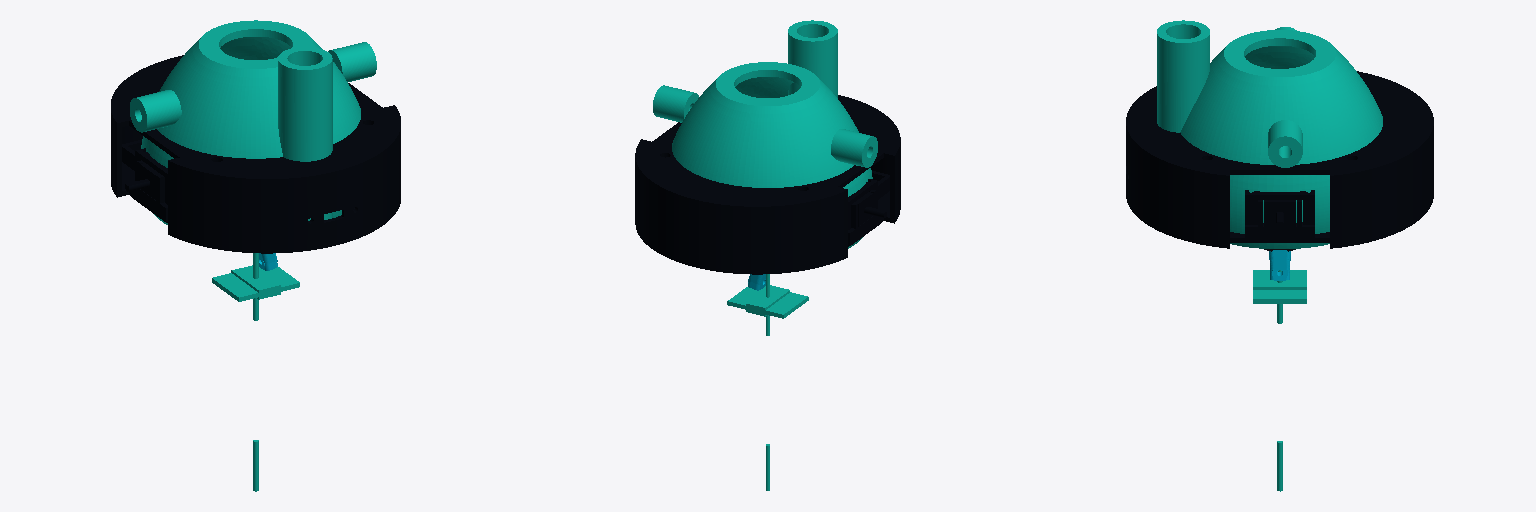
The robot description file, URDF, robot "desk_pet":
<?xml version="1.0" encoding="utf-8"?>
<robot name="desk_pet">
  <material name="dark_chassis">
    <color rgba="0.043 0.059 0.090 1.0"/>
  </material>
  <material name="cyan_accent">
    <color rgba="0.024 0.714 0.831 1.0"/>
  </material>
  <material name="teal_body">
    <color rgba="0.078 0.722 0.651 1.0"/>
  </material>
  <material name="yellow_amber">
    <color rgba="0.918 0.702 0.031 1.0"/>
  </material>
  <material name="tire_rubber">
    <color rgba="0.10 0.10 0.12 1.0"/>
  </material>
  <material name="eye_glow">
    <color rgba="0.05 0.95 0.95 1.0"/>
  </material>

  <link name="base_link">
    <inertial>
      <origin xyz="0.000000 -0.000021 0.010275" rpy="0 0 0"/>
      <mass value="0.3761"/>
      <inertia ixx="1.56699473e-04" ixy="0.00000000e+00" ixz="0.00000000e+00"
               iyy="1.56699473e-04" iyz="0.00000000e+00"
               izz="1.56699473e-04"/>
    </inertial>
    <visual>
      <origin xyz="0 0 0" rpy="0 0 0"/>
      <geometry>
        <mesh filename="../stl/base_link.stl"/>
      </geometry>
      <material name="dark_chassis"/>
    </visual>
    <collision>
      <origin xyz="0 0 0" rpy="0 0 0"/>
      <geometry>
        <mesh filename="../stl/base_link.stl"/>
      </geometry>
    </collision>
  </link>

  <link name="left_wheel_link">
    <inertial>
      <origin xyz="-0.000000 -0.000000 0.000001" rpy="0 0 0"/>
      <mass value="0.0194"/>
      <inertia ixx="8.09189821e-06" ixy="0.00000000e+00" ixz="0.00000000e+00"
               iyy="8.09189821e-06" iyz="0.00000000e+00"
               izz="8.09189821e-06"/>
    </inertial>
    <visual>
      <origin xyz="0 0 0" rpy="0 0 0"/>
      <geometry>
        <mesh filename="../stl/left_wheel.stl"/>
      </geometry>
      <material name="tire_rubber"/>
    </visual>
    <collision>
      <origin xyz="0 0 0" rpy="0 0 0"/>
      <geometry>
        <mesh filename="../stl/left_wheel.stl"/>
      </geometry>
    </collision>
  </link>

  <joint name="left_wheel_joint" type="continuous">
    <parent link="base_link"/>
    <child link="left_wheel_link"/>
    <origin xyz="-0.049 0.0 0.017" rpy="0 0 0"/>
    <axis xyz="-1 0 0"/>
    <limit effort="1.2" velocity="25.0"/>
    <dynamics damping="0.001" friction="0.01"/>
  </joint>

  <link name="right_wheel_link">
    <inertial>
      <origin xyz="-0.000000 -0.000000 0.000001" rpy="0 0 0"/>
      <mass value="0.0194"/>
      <inertia ixx="8.09189821e-06" ixy="0.00000000e+00" ixz="0.00000000e+00"
               iyy="8.09189821e-06" iyz="0.00000000e+00"
               izz="8.09189821e-06"/>
    </inertial>
    <visual>
      <origin xyz="0 0 0" rpy="0 0 0"/>
      <geometry>
        <mesh filename="../stl/right_wheel.stl"/>
      </geometry>
      <material name="tire_rubber"/>
    </visual>
    <collision>
      <origin xyz="0 0 0" rpy="0 0 0"/>
      <geometry>
        <mesh filename="../stl/right_wheel.stl"/>
      </geometry>
    </collision>
  </link>

  <joint name="right_wheel_joint" type="continuous">
    <parent link="base_link"/>
    <child link="right_wheel_link"/>
    <origin xyz="0.049 0.0 0.017" rpy="0 0 0"/>
    <axis xyz="1 0 0"/>
    <limit effort="1.2" velocity="25.0"/>
    <dynamics damping="0.001" friction="0.01"/>
  </joint>

  <link name="torso_link">
    <inertial>
      <origin xyz="-0.000002 -0.003657 0.057928" rpy="0 0 0"/>
      <mass value="0.1409"/>
      <inertia ixx="1.58807322e-04" ixy="-2.78418515e-09" ixz="-8.69789555e-09"
               iyy="1.48522318e-04" iyz="1.13168473e-05"
               izz="1.61379411e-04"/>
    </inertial>
    <visual>
      <origin xyz="0 0 0" rpy="0 0 0"/>
      <geometry>
        <mesh filename="../stl/torso_shell.stl"/>
      </geometry>
      <material name="teal_body"/>
    </visual>
    <collision>
      <origin xyz="0 0 0" rpy="0 0 0"/>
      <geometry>
        <mesh filename="../stl/torso_shell.stl"/>
      </geometry>
    </collision>
  </link>

  <joint name="torso_flange_joint" type="fixed">
    <parent link="base_link"/>
    <child link="torso_link"/>
    <origin xyz="0 0 0.034" rpy="0 0 0"/>
  </joint>

  <link name="left_arm_link">
    <inertial>
      <origin xyz="-0.000000 -0.000000 -0.012585" rpy="0 0 0"/>
      <mass value="0.0152"/>
      <inertia ixx="1.39604522e-06" ixy="-1.14007910e-12" ixz="-1.18367851e-12"
               iyy="1.36485755e-06" iyz="-7.37521152e-13"
               izz="1.47666901e-07"/>
    </inertial>
    <visual>
      <origin xyz="0 0 0" rpy="0 0 0"/>
      <geometry>
        <mesh filename="../stl/left_arm.stl"/>
      </geometry>
      <material name="cyan_accent"/>
    </visual>
    <collision>
      <origin xyz="0 0 0" rpy="0 0 0"/>
      <geometry>
        <mesh filename="../stl/left_arm.stl"/>
      </geometry>
    </collision>
  </link>

  <joint name="left_shoulder_joint" type="revolute">
    <parent link="torso_link"/>
    <child link="left_arm_link"/>
    <origin xyz="-0.0485 0.002 0.044" rpy="0 0.1745 0"/>
    <axis xyz="1 0 0"/>
    <limit lower="-0.6981" upper="2.3562" effort="1.2" velocity="8.0"/>
    <dynamics damping="0.002" friction="0.01"/>
  </joint>

  <link name="left_pincer_link">
    <inertial>
      <origin xyz="0.000000 -0.000000 -0.006789" rpy="0 0 0"/>
      <mass value="0.0015"/>
      <inertia ixx="4.52705404e-08" ixy="-2.68435508e-17" ixz="2.60610462e-17"
               iyy="3.13777882e-08" iyz="-5.31586597e-17"
               izz="1.74142538e-08"/>
    </inertial>
    <visual>
      <origin xyz="0 0 0" rpy="0 0 0"/>
      <geometry>
        <mesh filename="../stl/left_pincer.stl"/>
      </geometry>
      <material name="yellow_amber"/>
    </visual>
    <collision>
      <origin xyz="0 0 0" rpy="0 0 0"/>
      <geometry>
        <mesh filename="../stl/left_pincer.stl"/>
      </geometry>
    </collision>
  </link>

  <joint name="left_gripper_joint" type="revolute">
    <parent link="left_arm_link"/>
    <child link="left_pincer_link"/>
    <origin xyz="0 0 -0.026" rpy="0 0 0"/>
    <axis xyz="0 1 0"/>
    <limit lower="0.0" upper="0.9599" effort="0.6" velocity="10.0"/>
    <dynamics damping="0.001" friction="0.01"/>
  </joint>

  <link name="right_arm_link">
    <inertial>
      <origin xyz="-0.000000 -0.000000 -0.012585" rpy="0 0 0"/>
      <mass value="0.0152"/>
      <inertia ixx="1.39604522e-06" ixy="-1.14007910e-12" ixz="-1.18367851e-12"
               iyy="1.36485755e-06" iyz="-7.37521152e-13"
               izz="1.47666901e-07"/>
    </inertial>
    <visual>
      <origin xyz="0 0 0" rpy="0 0 0"/>
      <geometry>
        <mesh filename="../stl/right_arm.stl"/>
      </geometry>
      <material name="cyan_accent"/>
    </visual>
    <collision>
      <origin xyz="0 0 0" rpy="0 0 0"/>
      <geometry>
        <mesh filename="../stl/right_arm.stl"/>
      </geometry>
    </collision>
  </link>

  <joint name="right_shoulder_joint" type="revolute">
    <parent link="torso_link"/>
    <child link="right_arm_link"/>
    <origin xyz="0.0485 0.002 0.044" rpy="0 -0.1745 0"/>
    <axis xyz="1 0 0"/>
    <limit lower="-0.6981" upper="2.3562" effort="1.2" velocity="8.0"/>
    <dynamics damping="0.002" friction="0.01"/>
  </joint>

  <link name="right_pincer_link">
    <inertial>
      <origin xyz="0.000000 -0.000000 -0.006789" rpy="0 0 0"/>
      <mass value="0.0015"/>
      <inertia ixx="4.52705404e-08" ixy="-2.68435508e-17" ixz="2.60610462e-17"
               iyy="3.13777882e-08" iyz="-5.31586597e-17"
               izz="1.74142538e-08"/>
    </inertial>
    <visual>
      <origin xyz="0 0 0" rpy="0 0 0"/>
      <geometry>
        <mesh filename="../stl/right_pincer.stl"/>
      </geometry>
      <material name="yellow_amber"/>
    </visual>
    <collision>
      <origin xyz="0 0 0" rpy="0 0 0"/>
      <geometry>
        <mesh filename="../stl/right_pincer.stl"/>
      </geometry>
    </collision>
  </link>

  <joint name="right_gripper_joint" type="revolute">
    <parent link="right_arm_link"/>
    <child link="right_pincer_link"/>
    <origin xyz="0 0 -0.026" rpy="0 0 0"/>
    <axis xyz="0 1 0"/>
    <limit lower="0.0" upper="0.9599" effort="0.6" velocity="10.0"/>
    <dynamics damping="0.001" friction="0.01"/>
  </joint>

  <link name="neck_yaw_link">
    <inertial>
      <origin xyz="0.000000 0.000000 0.100815" rpy="0 0 0"/>
      <mass value="0.0186"/>
      <inertia ixx="1.13711071e-06" ixy="3.26386799e-14" ixz="-2.67629283e-13"
               iyy="1.29554508e-06" iyz="-1.31984943e-13"
               izz="1.74727973e-06"/>
    </inertial>
    <visual>
      <origin xyz="0 0 0" rpy="0 0 0"/>
      <geometry>
        <mesh filename="../stl/neck_yaw_turret.stl"/>
      </geometry>
      <material name="cyan_accent"/>
    </visual>
    <collision>
      <origin xyz="0 0 0" rpy="0 0 0"/>
      <geometry>
        <mesh filename="../stl/neck_yaw_turret.stl"/>
      </geometry>
    </collision>
  </link>

  <joint name="neck_yaw_joint" type="revolute">
    <parent link="torso_link"/>
    <child link="neck_yaw_link"/>
    <origin xyz="0 0 0.062" rpy="0 0 0"/>
    <axis xyz="0 0 1"/>
    <limit lower="-1.3090" upper="1.3090" effort="1.5" velocity="6.28"/>
    <dynamics damping="0.005" friction="0.02"/>
  </joint>

  <link name="head_link">
    <inertial>
      <origin xyz="-0.000000 0.002872 0.124602" rpy="0 0 0"/>
      <mass value="0.0827"/>
      <inertia ixx="3.44715016e-05" ixy="0.00000000e+00" ixz="0.00000000e+00"
               iyy="3.44715016e-05" iyz="0.00000000e+00"
               izz="3.44715016e-05"/>
    </inertial>
    <visual>
      <origin xyz="0 0 0" rpy="0 0 0"/>
      <geometry>
        <mesh filename="../stl/head_assembly.stl"/>
      </geometry>
      <material name="teal_body"/>
    </visual>
    <collision>
      <origin xyz="0 0 0" rpy="0 0 0"/>
      <geometry>
        <mesh filename="../stl/head_assembly.stl"/>
      </geometry>
    </collision>
  </link>

  <joint name="neck_pitch_joint" type="revolute">
    <parent link="neck_yaw_link"/>
    <child link="head_link"/>
    <origin xyz="0 0 0.012" rpy="0 0 0"/>
    <axis xyz="1 0 0"/>
    <limit lower="-0.5236" upper="0.6981" effort="1.5" velocity="6.28"/>
    <dynamics damping="0.005" friction="0.02"/>
  </joint>

  <link name="left_eye_link">
    <visual>
      <origin xyz="0 0 0" rpy="0 0 0"/>
      <geometry>
        <mesh filename="../stl/left_eye.stl"/>
      </geometry>
      <material name="eye_glow"/>
    </visual>
  </link>

  <joint name="left_eye_joint" type="fixed">
    <parent link="head_link"/>
    <child link="left_eye_link"/>
    <origin xyz="-0.0135 0.0350 0.0170" rpy="0 0 0"/>
  </joint>

  <link name="right_eye_link">
    <visual>
      <origin xyz="0 0 0" rpy="0 0 0"/>
      <geometry>
        <mesh filename="../stl/right_eye.stl"/>
      </geometry>
      <material name="eye_glow"/>
    </visual>
  </link>

  <joint name="right_eye_joint" type="fixed">
    <parent link="head_link"/>
    <child link="right_eye_link"/>
    <origin xyz="0.0135 0.0350 0.0170" rpy="0 0 0"/>
  </joint>

  <link name="left_ear_link">
    <inertial>
      <origin xyz="0.000000 -0.000000 0.014726" rpy="0 0 0"/>
      <mass value="0.0010"/>
      <inertia ixx="1.46264188e-07" ixy="1.44606890e-13" ixz="-3.17756410e-13"
               iyy="1.35607847e-07" iyz="-3.16679270e-12"
               izz="1.21228018e-08"/>
    </inertial>
    <visual>
      <origin xyz="0 0 0" rpy="0 0 0"/>
      <geometry>
        <mesh filename="../stl/left_ear.stl"/>
      </geometry>
      <material name="yellow_amber"/>
    </visual>
    <collision>
      <origin xyz="0 0 0" rpy="0 0 0"/>
      <geometry>
        <mesh filename="../stl/left_ear.stl"/>
      </geometry>
    </collision>
  </link>

  <joint name="left_ear_joint" type="revolute">
    <parent link="head_link"/>
    <child link="left_ear_link"/>
    <origin xyz="-0.032 0.002 0.030" rpy="0 0 0"/>
    <axis xyz="1 0 0"/>
    <limit lower="-1.1345" upper="0.7854" effort="0.5" velocity="10.0"/>
    <dynamics damping="0.002" friction="0.01"/>
  </joint>

  <link name="right_ear_link">
    <inertial>
      <origin xyz="0.000000 -0.000000 0.014726" rpy="0 0 0"/>
      <mass value="0.0010"/>
      <inertia ixx="1.46264188e-07" ixy="1.44606890e-13" ixz="-3.17756410e-13"
               iyy="1.35607847e-07" iyz="-3.16679270e-12"
               izz="1.21228018e-08"/>
    </inertial>
    <visual>
      <origin xyz="0 0 0" rpy="0 0 0"/>
      <geometry>
        <mesh filename="../stl/right_ear.stl"/>
      </geometry>
      <material name="yellow_amber"/>
    </visual>
    <collision>
      <origin xyz="0 0 0" rpy="0 0 0"/>
      <geometry>
        <mesh filename="../stl/right_ear.stl"/>
      </geometry>
    </collision>
  </link>

  <joint name="right_ear_joint" type="revolute">
    <parent link="head_link"/>
    <child link="right_ear_link"/>
    <origin xyz="0.032 0.002 0.030" rpy="0 0 0"/>
    <axis xyz="1 0 0"/>
    <limit lower="-1.1345" upper="0.7854" effort="0.5" velocity="10.0"/>
    <dynamics damping="0.002" friction="0.01"/>
  </joint>
</robot>

--- Facts derived from the render (not from the file) ---
3 views of the same robot in one strip: view 1: azimuth 30°, elevation 25°; view 2: azimuth 150°, elevation 25°; view 3: azimuth 270°, elevation 25° (orthographic).
Robot: desk_pet — 14 links, 13 joints (8 revolute, 2 continuous, 3 fixed); root link base_link; default pose: every joint at zero.
Links seen in each view (by area): view 1: base_link, torso_link; view 2: base_link, torso_link; view 3: torso_link, base_link, right_arm_link.
Boxes of the visible links, left/top/right/bottom form: base_link: left=111, top=55, right=400, bottom=253; torso_link: left=130, top=20, right=376, bottom=320; base_link: left=635, top=95, right=900, bottom=274; torso_link: left=653, top=20, right=877, bottom=335; torso_link: left=1157, top=20, right=1382, bottom=323; base_link: left=1126, top=71, right=1433, bottom=248; right_arm_link: left=1269, top=250, right=1290, bottom=280.
Size in the robot's own frame: 109 by 115 by 189 metres.
Meshes: 14 distinct files referenced, 10 mesh visuals loaded (10 binary STL); not drawn: 4 (reference not matched to a file when rendering).
